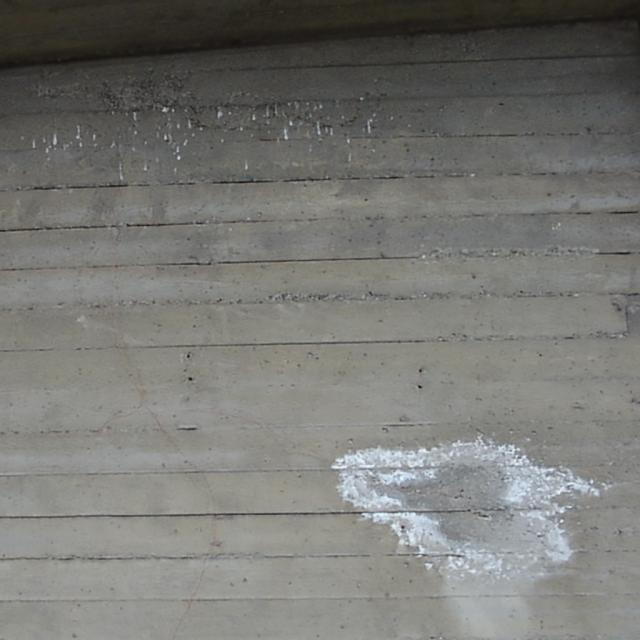D01: (334, 442, 613, 585)
